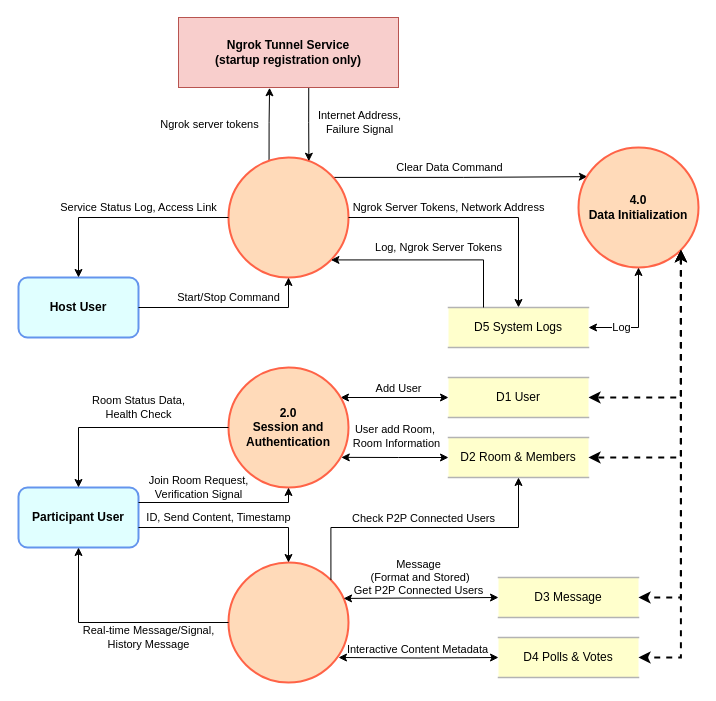
The diagram is 716 pixels wide and 701 high, and some of its shapes have lost their labels. The box of each missing label's shape, as (x1, y1, x2, y2) in pixels:
1.0 Service Management: (227, 156, 349, 278)
3.0 Message Processing: (227, 561, 349, 683)
